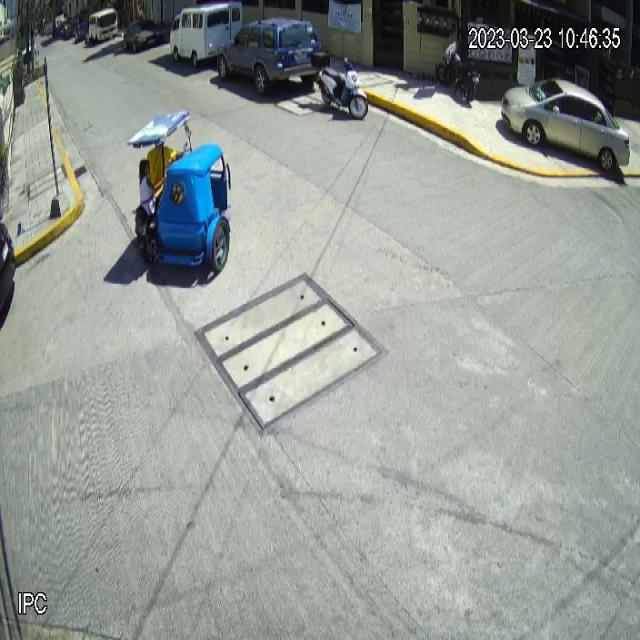Car: (501, 78, 630, 171), (216, 16, 323, 96)
Motorcycle: (312, 54, 368, 120)
Tricycle: (126, 108, 234, 272)
Van: (169, 0, 242, 69)
